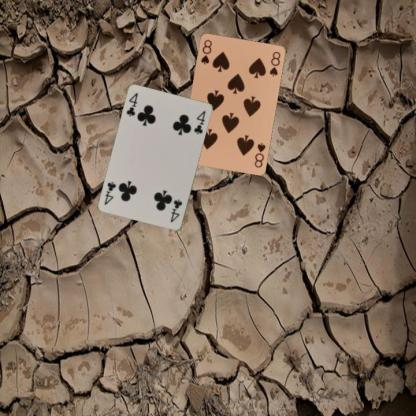4c: (168, 196, 184, 224), (124, 90, 140, 118)
8s: (198, 36, 213, 66), (252, 140, 266, 169)
